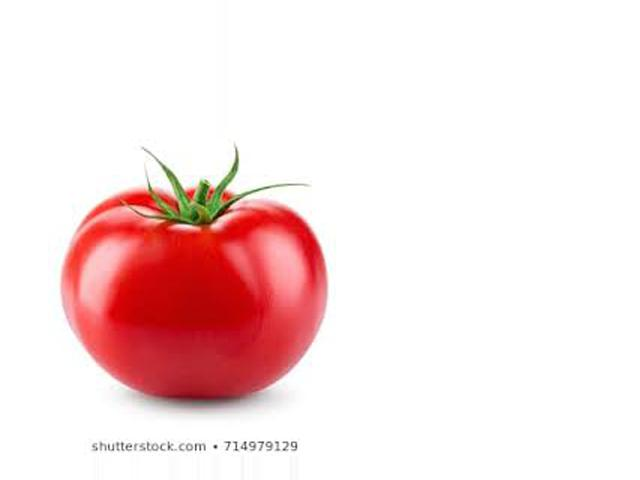tomato: (60, 190, 327, 397)
